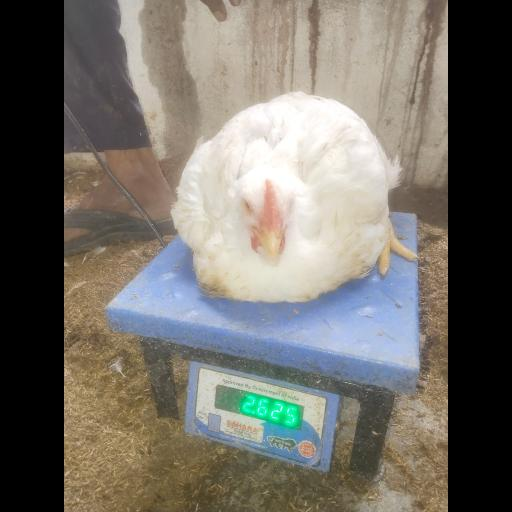chick: (172, 90, 418, 301)
